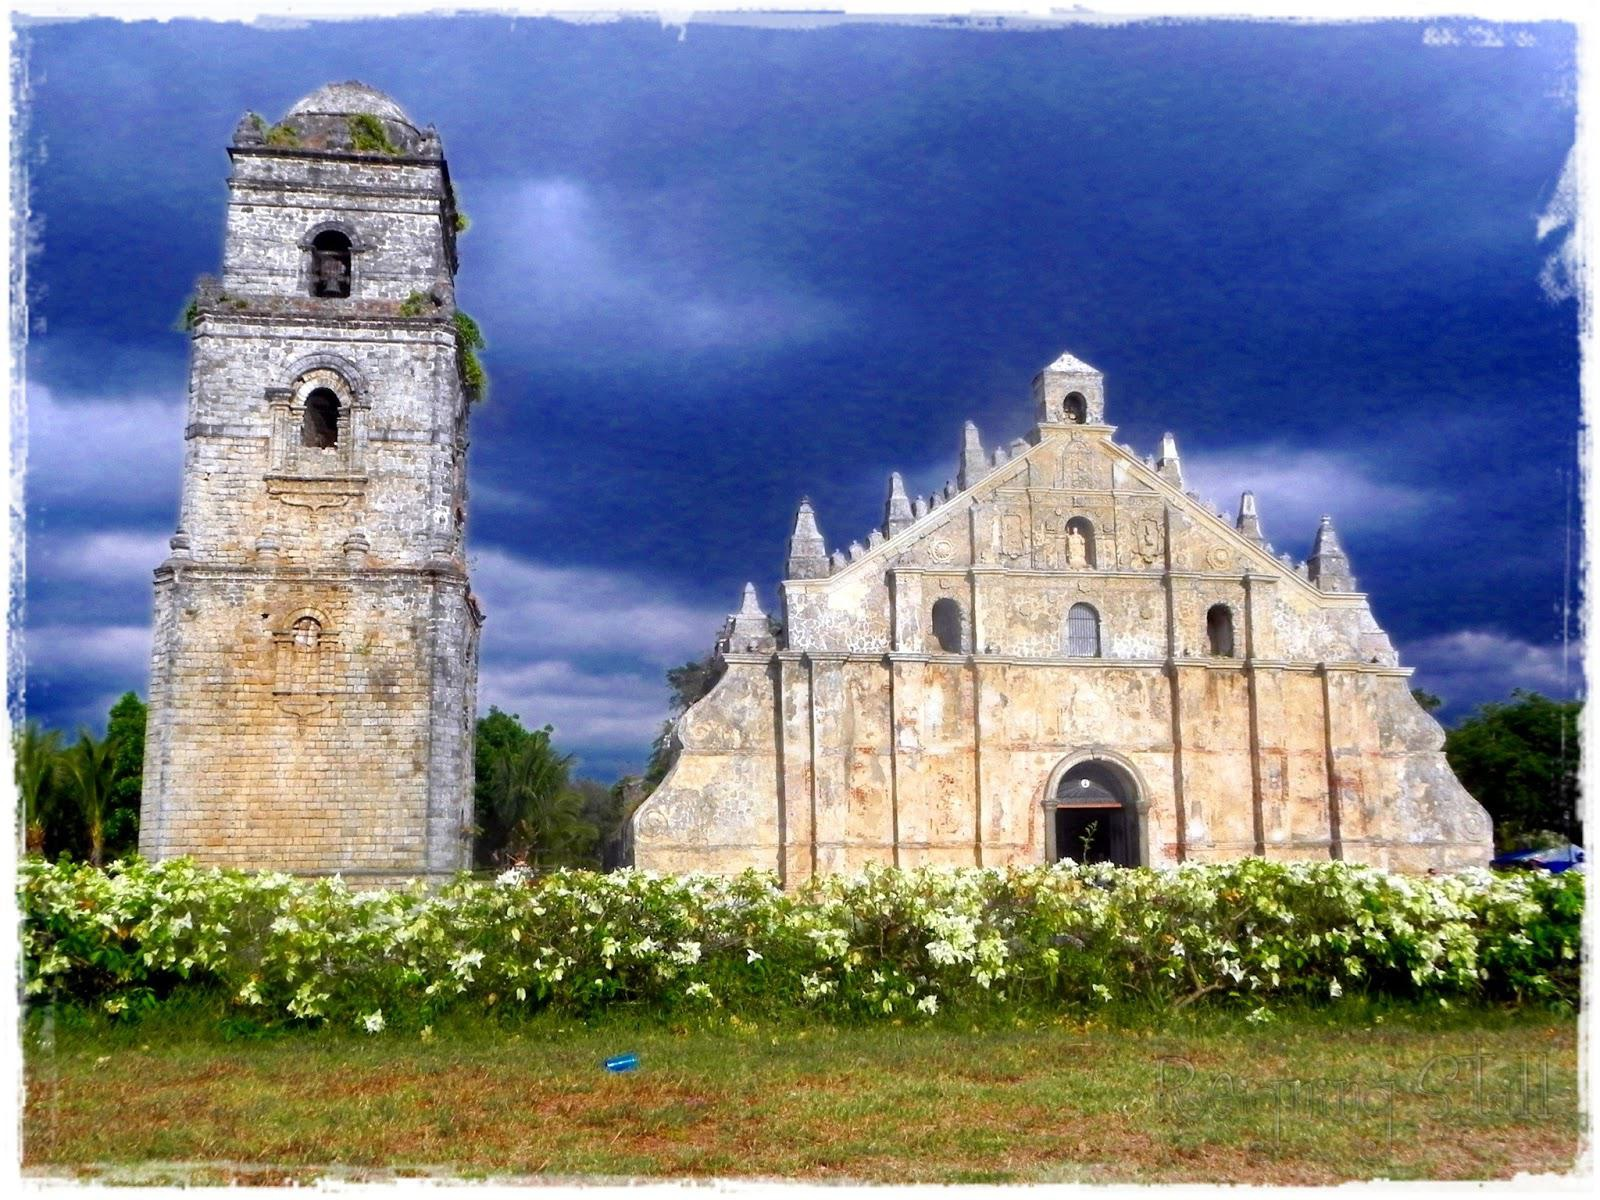paoay_church_paoay_ilocos_norte: (129, 57, 1516, 929)
vegetation_damage: (433, 303, 498, 410), (333, 102, 402, 166)
